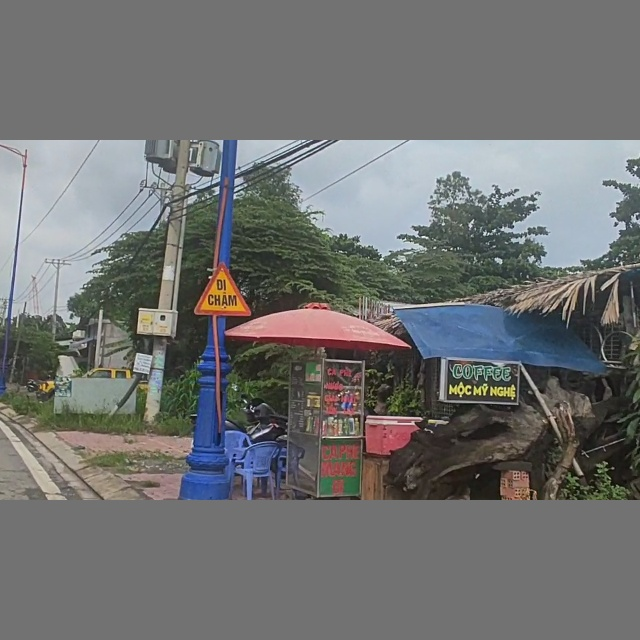W.245a: (193, 262, 253, 320)
